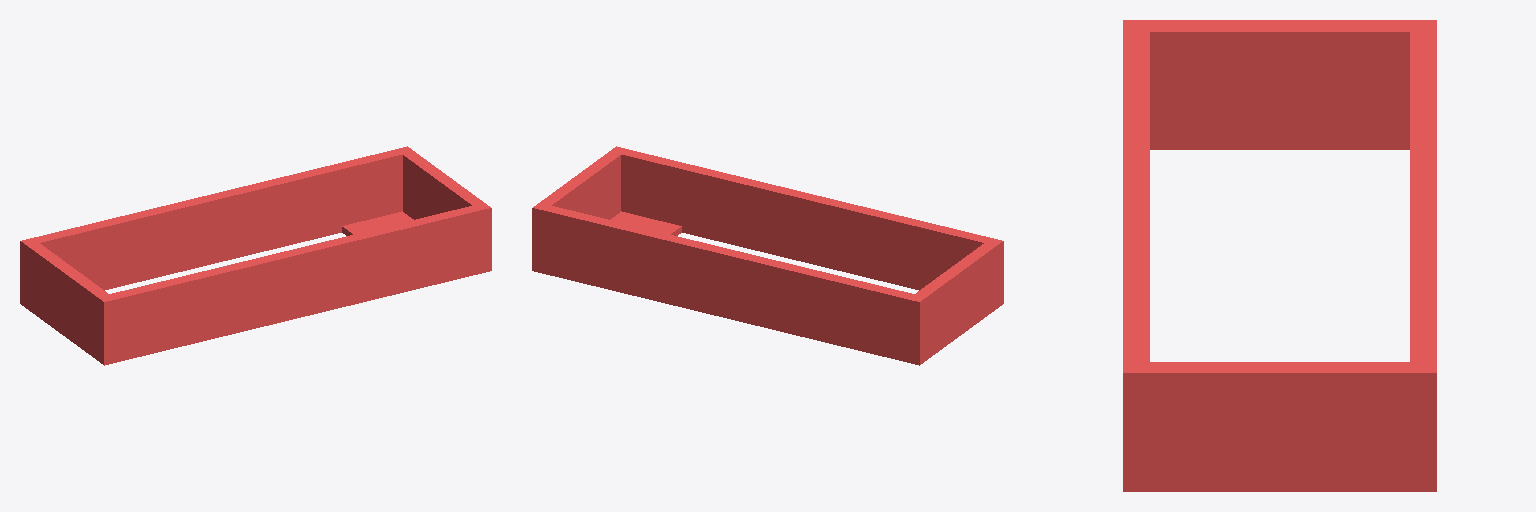
URDF robot description (room_w_pad.urdf):
<?xml version="1.0" ?>
<robot name="room_w_pad.urdf">
  <link concave="yes" name="baseLink">
    <inertial>
      <origin rpy="0 0 0" xyz="0.0 0.0 0.0"/>
       <mass value=".0"/>
       <inertia ixx="0" ixy="0" ixz="0" iyy="0" iyz="0" izz="0"/>
    </inertial>

    <visual>
      <origin rpy="1.57075 0 0" xyz="0 0 0"/>
      <geometry>
        <mesh filename="room_w_pad.obj" scale="1 1 1"/>
      </geometry>
       <material name="red">
        <color rgba="1 0.4 0.4 1"/>
      </material>
    </visual>

    <collision concave="yes">
      <origin rpy="1.57075 0 0" xyz="0 0 0"/>
      <geometry>
	 	    <mesh filename="room_w_pad.obj" scale="1 1 1"/>
      </geometry>
    </collision>
  </link>
</robot>

--- Facts derived from the render (not from the file) ---
3 views of the same robot in one strip: view 1: azimuth 30°, elevation 25°; view 2: azimuth 150°, elevation 25°; view 3: azimuth 270°, elevation 25° (orthographic).
Model room_w_pad.urdf with 1 links and 0 joints (none), rooted at baseLink, posed every joint at zero.
Visible links, largest first — view 1: baseLink; view 2: baseLink; view 3: baseLink.
Boxes of the visible links, left/top/right/bottom form: baseLink: left=20, top=146, right=491, bottom=365; baseLink: left=532, top=146, right=1003, bottom=365; baseLink: left=1123, top=20, right=1436, bottom=491.
Size in the robot's own frame: 6.4 by 2.4 by 1 metres.
1 mesh visuals loaded from 1 distinct referenced files (1 OBJ).